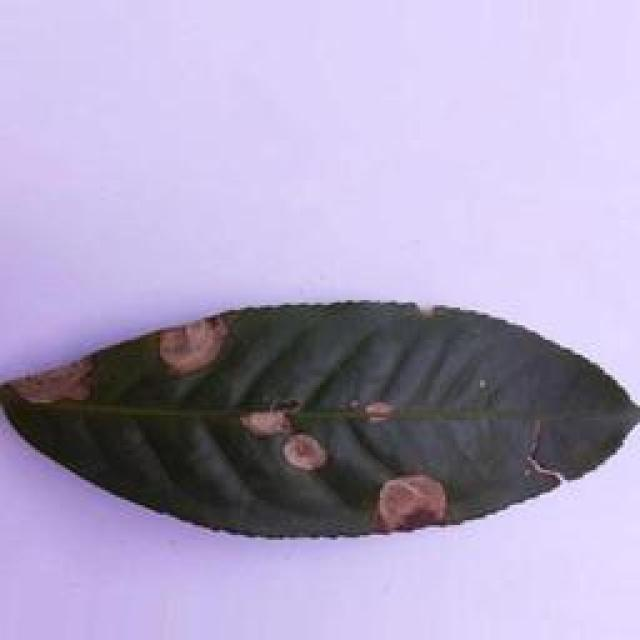Gray Blight: (0, 296, 640, 544)
